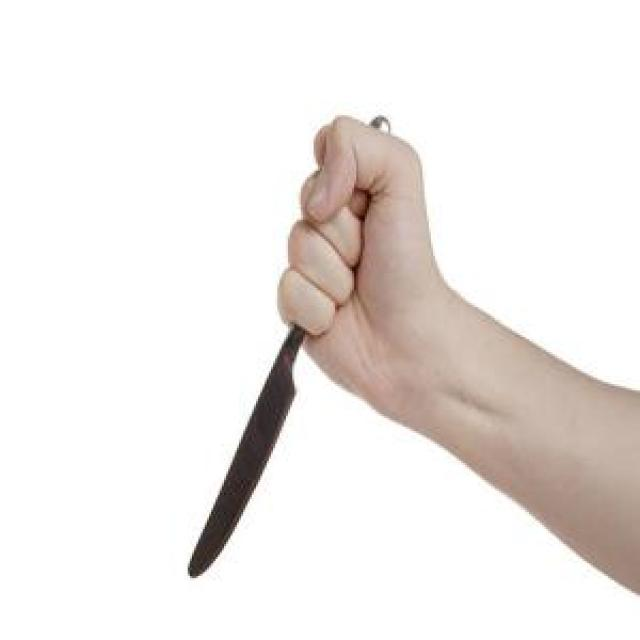knife: (179, 113, 403, 580)
